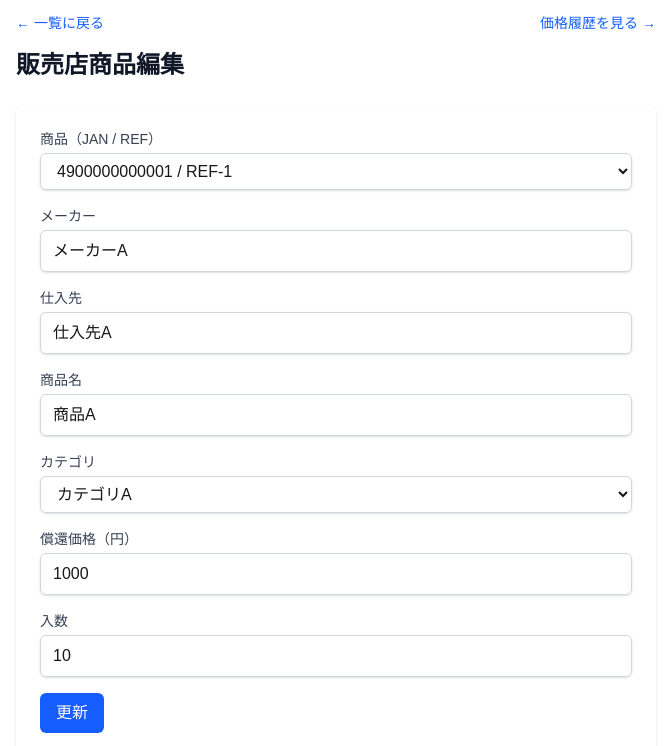
Test: EditDistributorProductPage › 更新失敗で submitError を表示する
Expected: the field showing "商品A" is shown, [40, 394, 632, 436]
Click the button "更新": (72, 713) [40, 693, 104, 733]
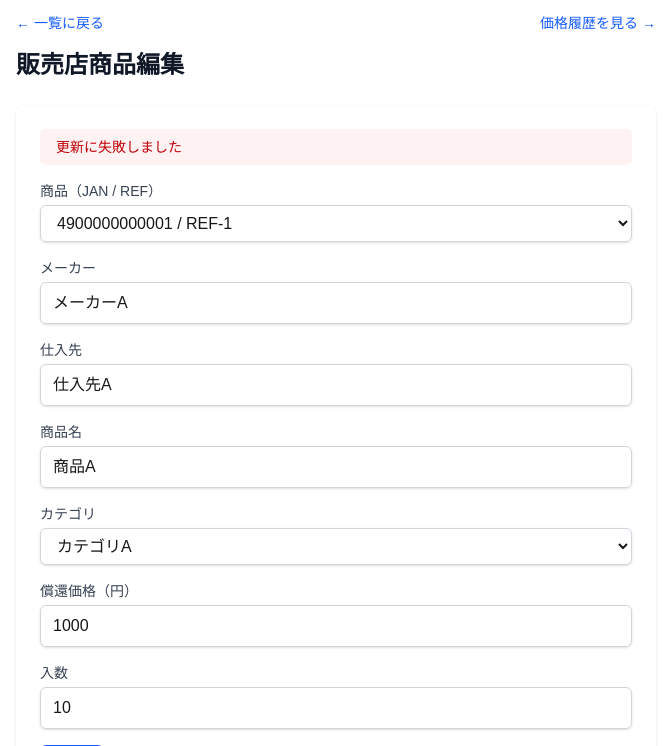
Expected: the text "更新に失敗しました" is shown, [40, 129, 632, 165]
